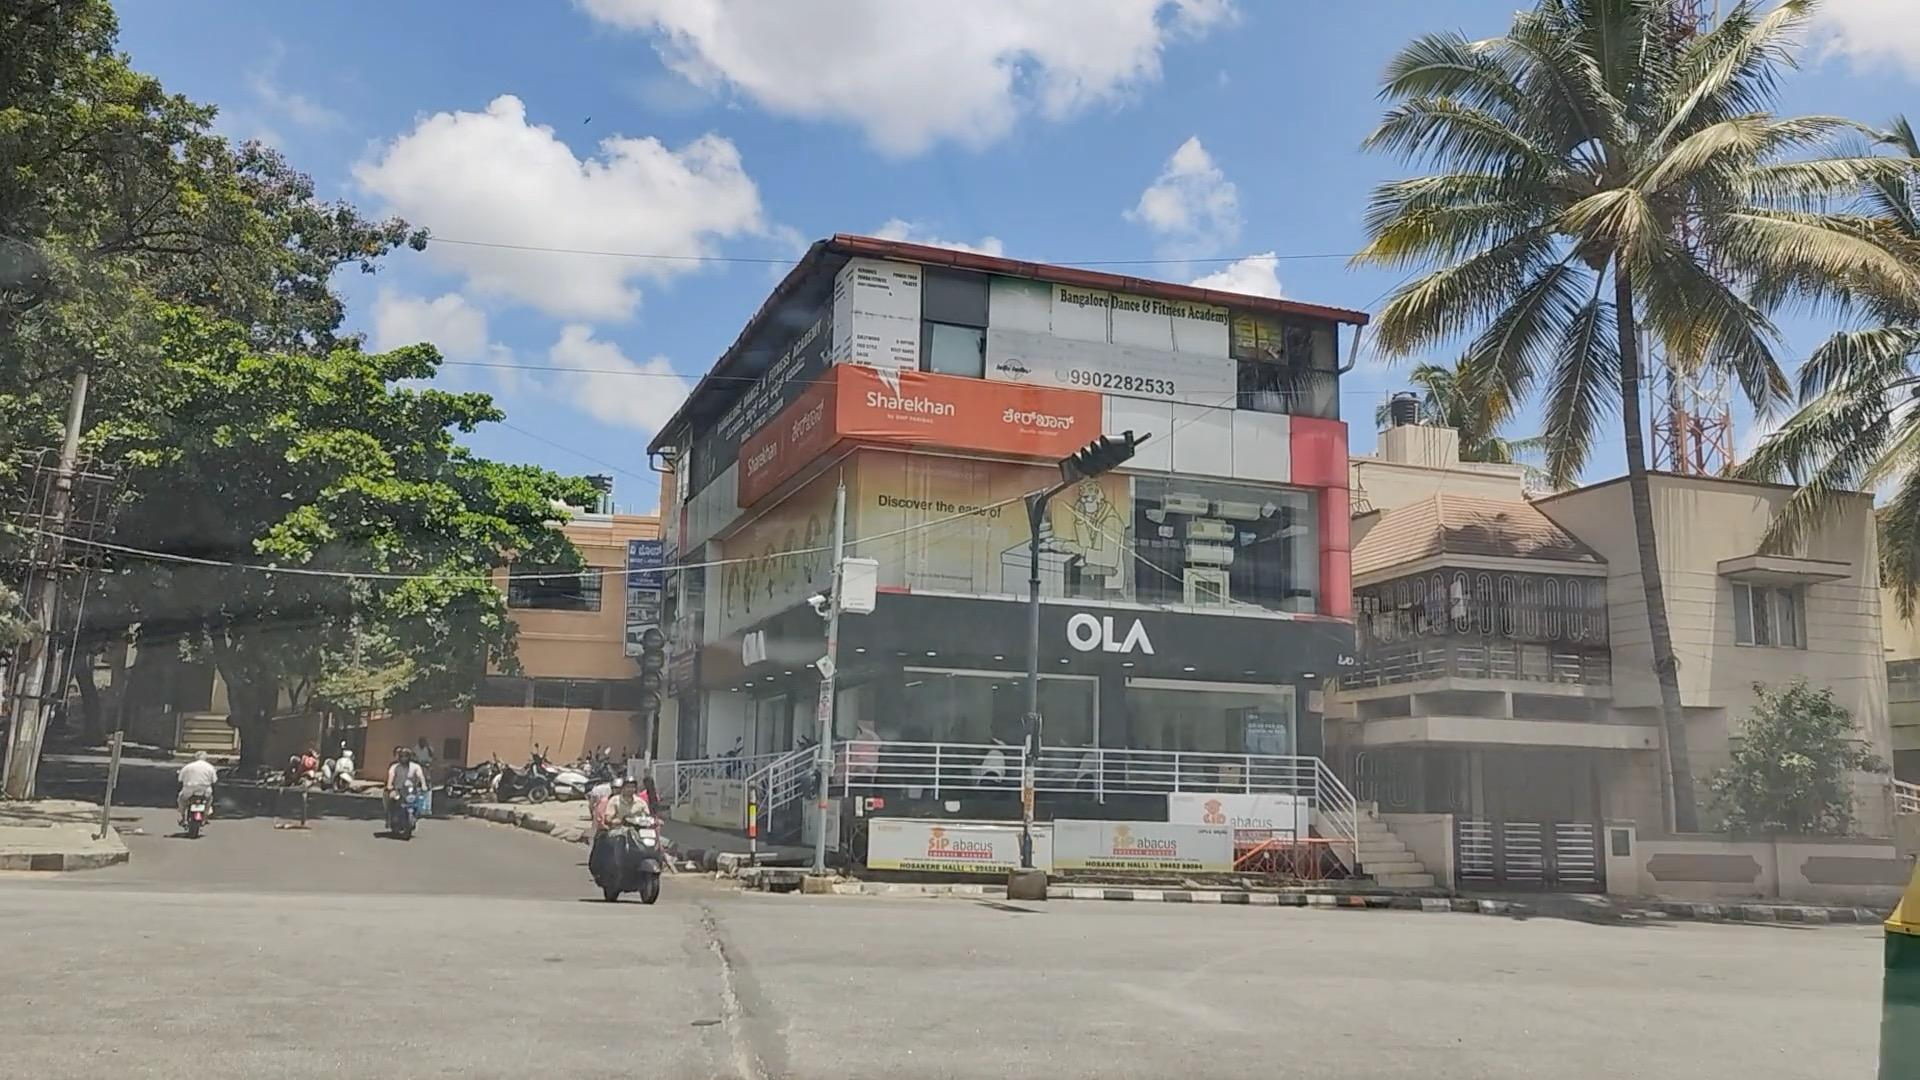RoadDamages: (687, 907, 814, 1080)
